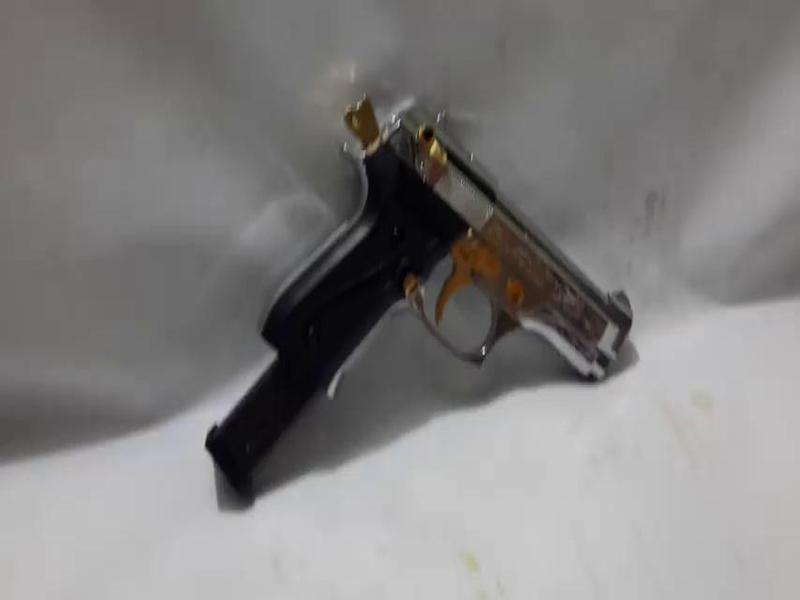Pistola: (253, 90, 637, 380)
